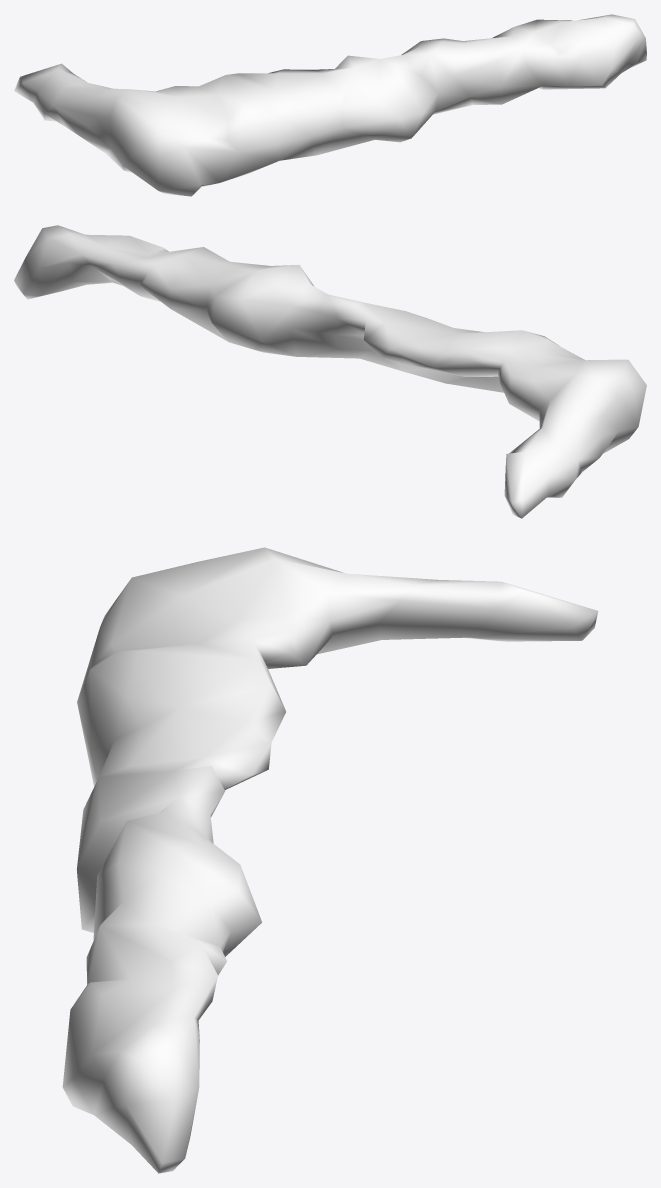
Rendered from SM_Snow1.fbx.
3 views of the same model, one above another, from view 1: azimuth 30°, elevation 25°; view 2: azimuth 150°, elevation 25°; view 3: azimuth 270°, elevation 25° (orthographic). The views are drawn at different scales.
Parts seen in each view (by area): view 1: SM_Snow1; view 2: SM_Snow1; view 3: SM_Snow1.
Boxes of the visible parts, left/top/right/bottom form: SM_Snow1: left=14, top=14, right=646, bottom=196; SM_Snow1: left=14, top=225, right=646, bottom=518; SM_Snow1: left=62, top=547, right=598, bottom=1173.
Bounding box in the file's own units: 219 × 31.04 × 95.38.
